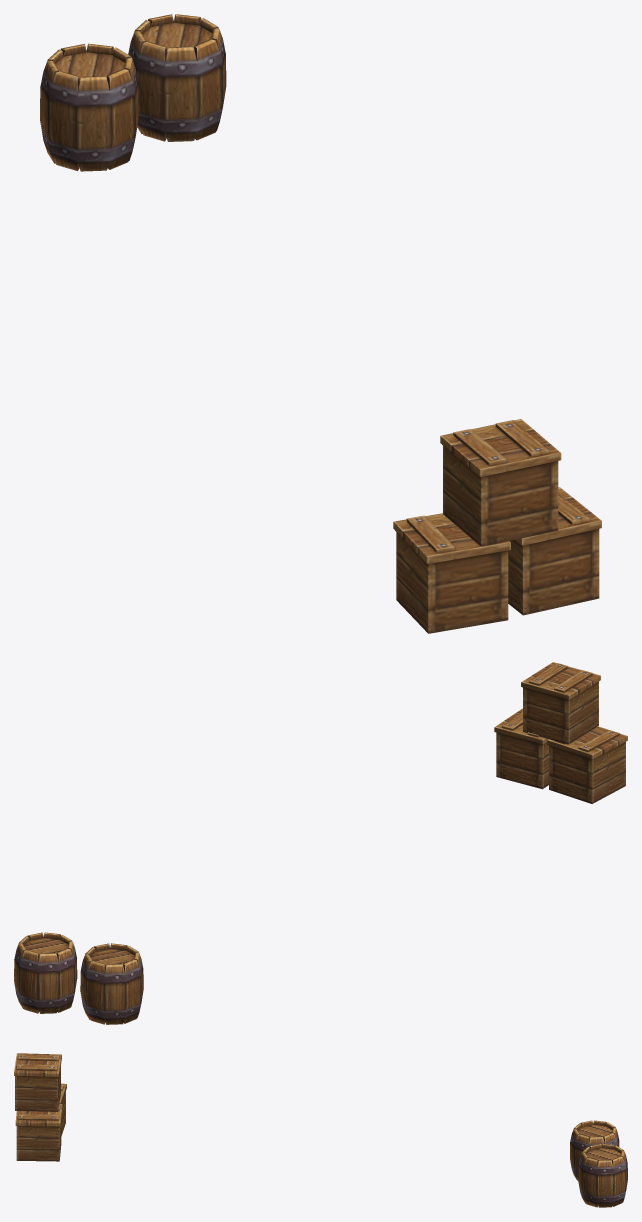
The model's file is Area_06_37.fbx.
3 renders of one model, top to bottom at view 1: azimuth 30°, elevation 25°; view 2: azimuth 150°, elevation 25°; view 3: azimuth 270°, elevation 25°, orthographic. The views are drawn at different scales.
Parts seen in each view (by area): view 1: Area_06_37; view 2: Area_06_37; view 3: Area_06_37.
Part boxes in pixels (x1=…): Area_06_37: x1=40, y1=14, x2=601, y2=633; Area_06_37: x1=14, y1=662, x2=627, y2=1024; Area_06_37: x1=14, y1=1053, x2=627, y2=1207.
Bounding box in the file's own units: 484 × 198 × 1378.
